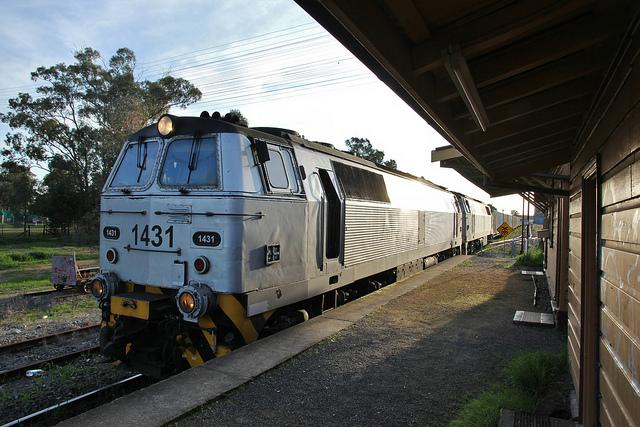Train: (55, 115, 530, 382)
